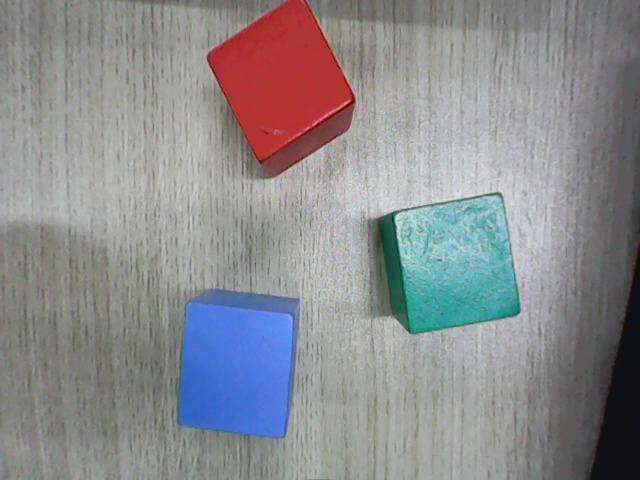upside of big cube: (204, 0, 357, 165), (390, 194, 523, 334), (176, 301, 295, 438)
